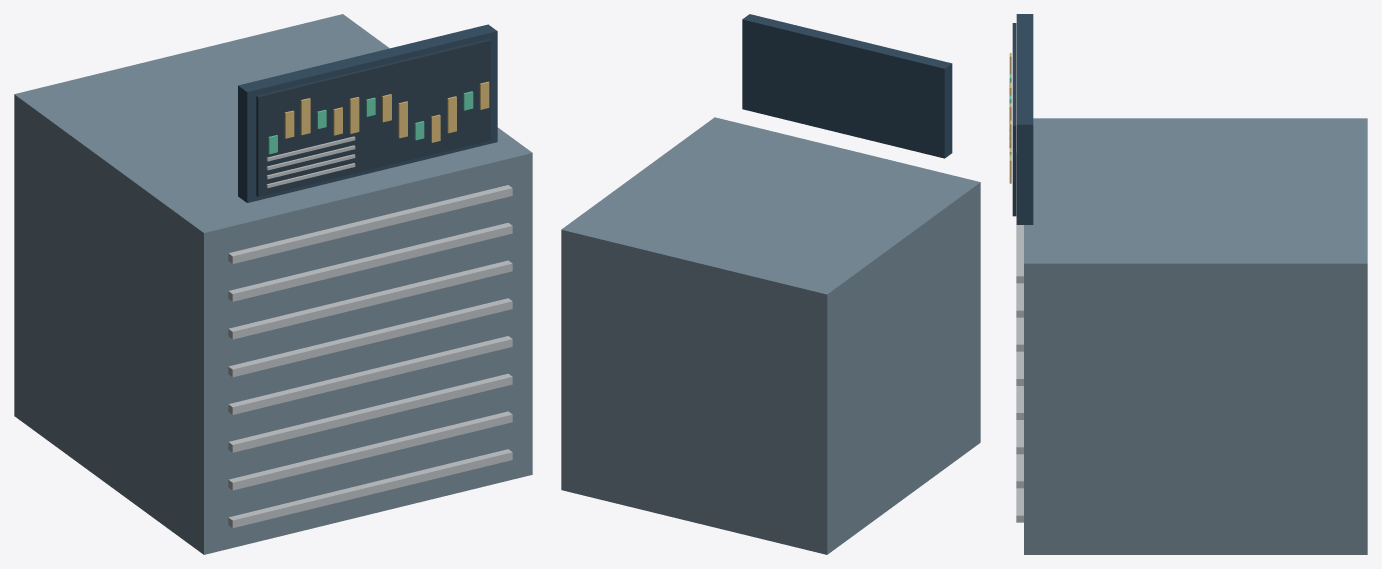
The model's file is 02_L77_CopperPlatedWaferCassette.glb.
3 renders of one model, left to right at view 1: azimuth 30°, elevation 25°; view 2: azimuth 150°, elevation 25°; view 3: azimuth 270°, elevation 25°, orthographic. The views are drawn at different scales.
Parts seen in each view (by area): view 1: CopperPlatedWaferCassette_Node_0000, CopperPlatedWaferCassette_Node_0020, CopperPlatedWaferCassette_Node_0019, CopperPlatedWaferCassette_Node_0003, CopperPlatedWaferCassette_Node_0005, CopperPlatedWaferCassette_Node_0009, CopperPlatedWaferCassette_Node_0001, CopperPlatedWaferCassette_Node_0007, CopperPlatedWaferCassette_Node_0011, CopperPlatedWaferCassette_Node_0013, CopperPlatedWaferCassette_Node_0015; view 2: CopperPlatedWaferCassette_Node_0000, CopperPlatedWaferCassette_Node_0019; view 3: CopperPlatedWaferCassette_Node_0000, CopperPlatedWaferCassette_Node_0019, CopperPlatedWaferCassette_Node_0020, CopperPlatedWaferCassette_Node_0015.
Part boxes in pixels (x1,y1,x2,y2): CopperPlatedWaferCassette_Node_0000: [14, 14, 532, 554]; CopperPlatedWaferCassette_Node_0020: [256, 39, 490, 196]; CopperPlatedWaferCassette_Node_0019: [238, 24, 497, 202]; CopperPlatedWaferCassette_Node_0003: [228, 411, 512, 490]; CopperPlatedWaferCassette_Node_0005: [228, 373, 512, 452]; CopperPlatedWaferCassette_Node_0009: [228, 298, 512, 377]; CopperPlatedWaferCassette_Node_0001: [228, 449, 512, 528]; CopperPlatedWaferCassette_Node_0007: [228, 336, 512, 414]; CopperPlatedWaferCassette_Node_0011: [228, 260, 512, 339]; CopperPlatedWaferCassette_Node_0013: [228, 222, 512, 301]; CopperPlatedWaferCassette_Node_0015: [228, 185, 512, 263]; CopperPlatedWaferCassette_Node_0000: [561, 117, 980, 554]; CopperPlatedWaferCassette_Node_0019: [742, 14, 952, 158]; CopperPlatedWaferCassette_Node_0000: [1024, 118, 1367, 554]; CopperPlatedWaferCassette_Node_0019: [1016, 14, 1033, 224]; CopperPlatedWaferCassette_Node_0020: [1012, 23, 1016, 216]; CopperPlatedWaferCassette_Node_0015: [1016, 153, 1023, 283].
Bounding box in the file's own units: 1.55 × 2.05 × 1.62.
